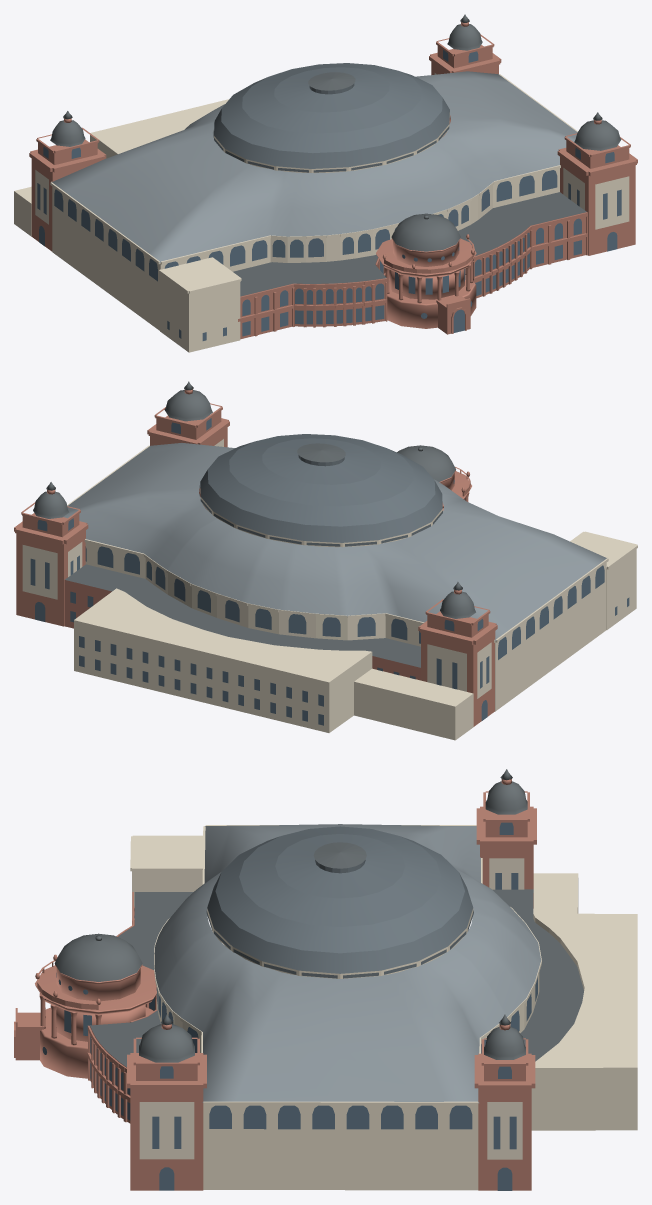
The model's file is frankfurt-festhalle.glb.
The picture shows the model from 3 angles, top to bottom: view 1: azimuth 30°, elevation 25°; view 2: azimuth 150°, elevation 25°; view 3: azimuth 270°, elevation 25°; orthographic projection. The views are drawn at different scales.
Visible parts, largest first — view 1: Festhalle; view 2: Festhalle; view 3: Festhalle.
Boxes of the visible parts, x1=… form: Festhalle: x1=14, y1=14, x2=637, y2=352; Festhalle: x1=14, y1=381, x2=637, y2=740; Festhalle: x1=14, y1=769, x2=637, y2=1190.
Size of the model in its own units: 114 by 38.6 by 108.
